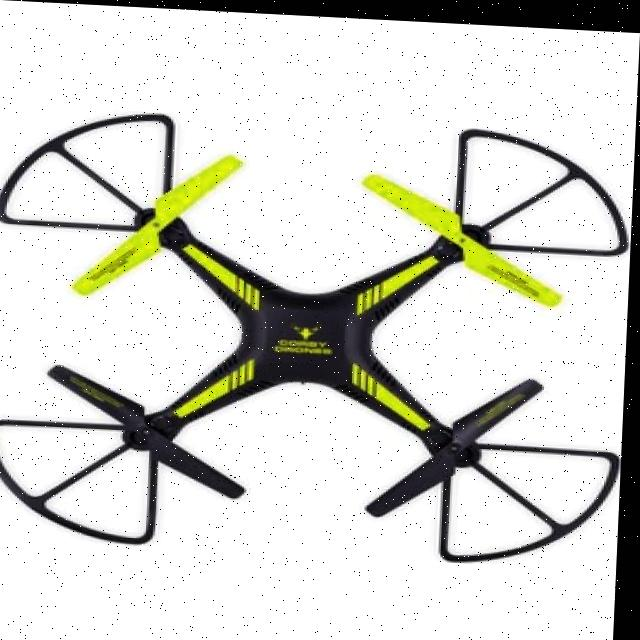drone: (0, 98, 636, 580)
